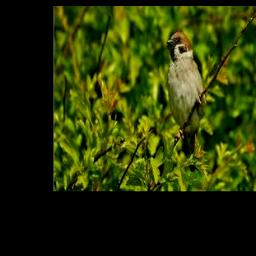Sparrow: (166, 32, 205, 172)
